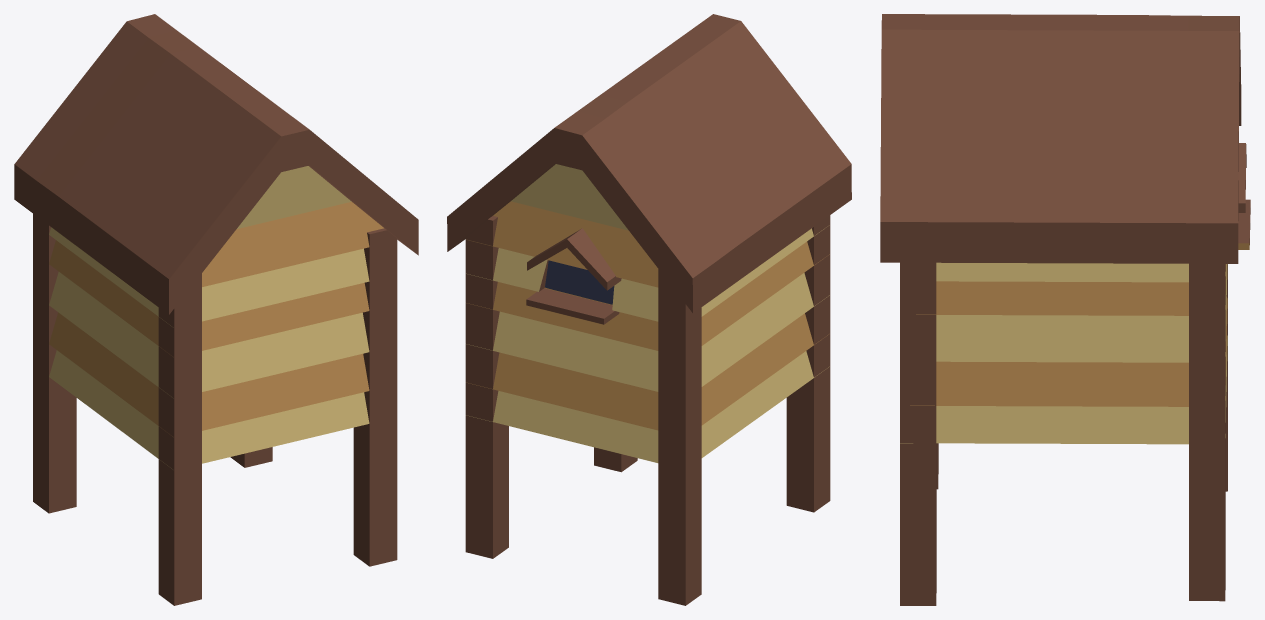
Rendered from beehive.fbx.
3 views of the same model, side by side, from view 1: azimuth 30°, elevation 25°; view 2: azimuth 150°, elevation 25°; view 3: azimuth 270°, elevation 25° (orthographic). The views are drawn at different scales.
Visible parts, largest first — view 1: Cube.002; view 2: Cube.002; view 3: Cube.002.
Boxes of the visible parts, x1,y1,x2,y2 form: Cube.002: (14, 14, 418, 605); Cube.002: (447, 14, 851, 605); Cube.002: (880, 14, 1250, 605).
Size of the model in its own units: 104 by 182 by 117.
